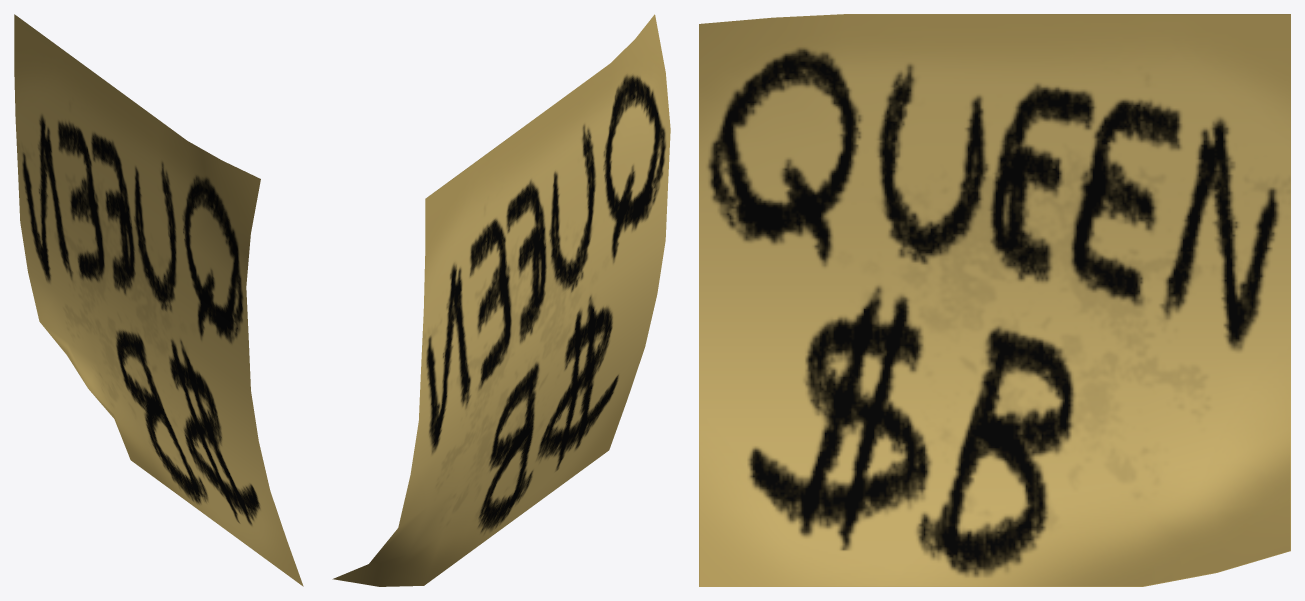
File: PostItNote.fbx
3 renders of one model, left to right at view 1: azimuth 30°, elevation 25°; view 2: azimuth 150°, elevation 25°; view 3: azimuth 270°, elevation 25°, orthographic. The views are drawn at different scales.
Visible parts, largest first — view 1: Plane; view 2: Plane; view 3: Plane.
Boxes of the visible parts, bbox=[...] form: Plane: bbox=[14, 14, 303, 586]; Plane: bbox=[332, 14, 670, 586]; Plane: bbox=[699, 14, 1290, 586].
Size of the model in its own units: 43.44 by 200 by 200.
